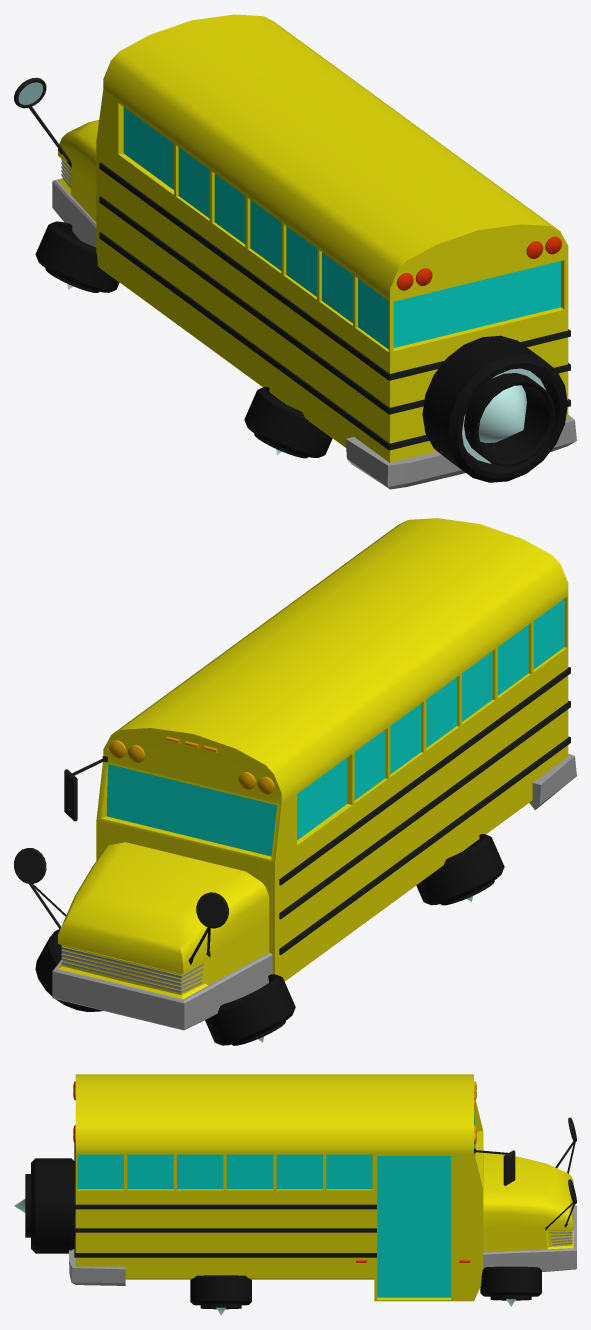
File: BUS.fbx
3 renders of one model, top to bottom at view 1: azimuth 30°, elevation 25°; view 2: azimuth 150°, elevation 25°; view 3: azimuth 270°, elevation 25°, orthographic. The views are drawn at different scales.
Parts seen in each view (by area): view 1: Bus; view 2: Bus; view 3: Bus.
Part boxes in pixels (bbox=[...]): Bus: bbox=[14, 14, 576, 489]; Bus: bbox=[14, 518, 576, 1045]; Bus: bbox=[14, 1074, 576, 1315].
Bounding box in the file's own units: 3.79 × 4.12 × 10.74.
